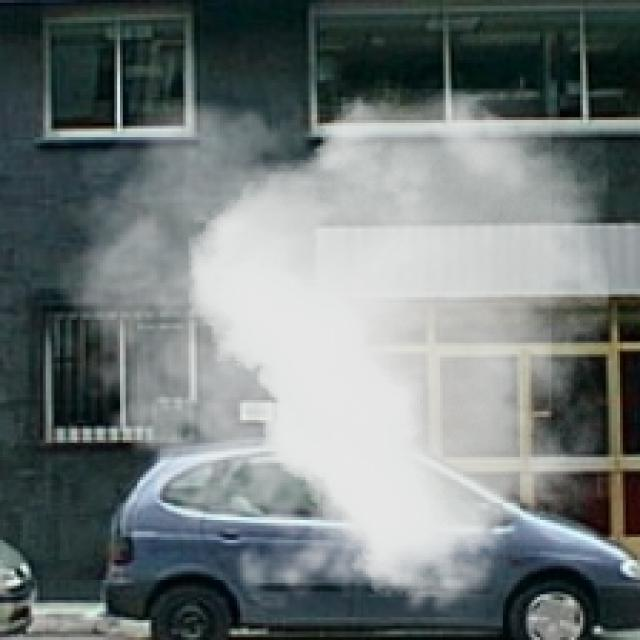Smoke: (40, 89, 609, 628)
